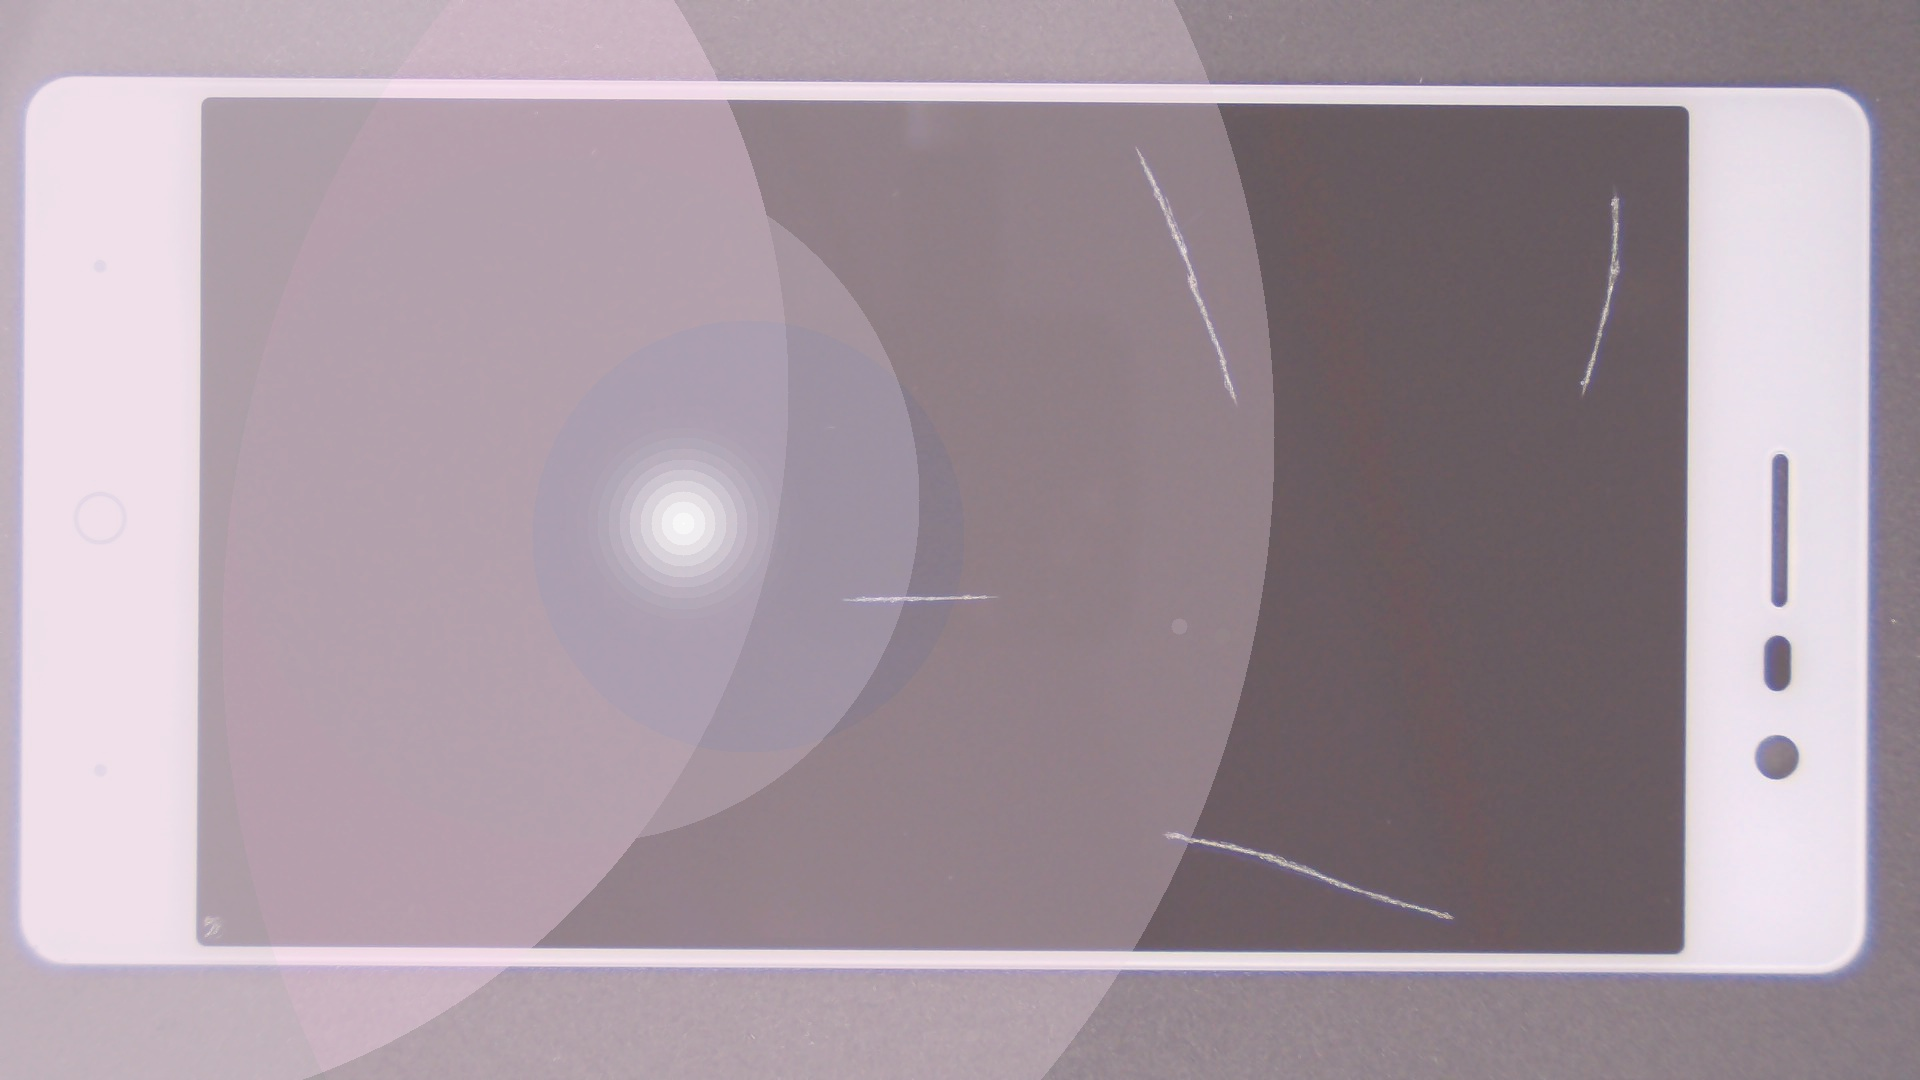oil: (585, 414, 1751, 1080), (484, 297, 1451, 891), (808, 95, 1920, 293), (568, 73, 1704, 218), (105, 456, 316, 1080)
